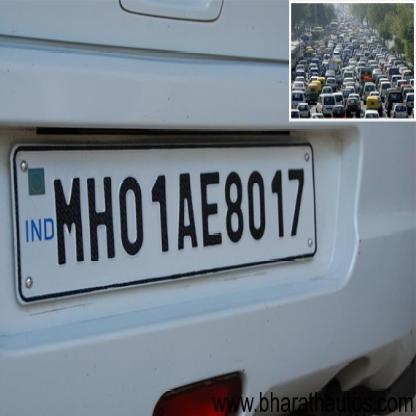license_plate: (13, 146, 317, 300)
